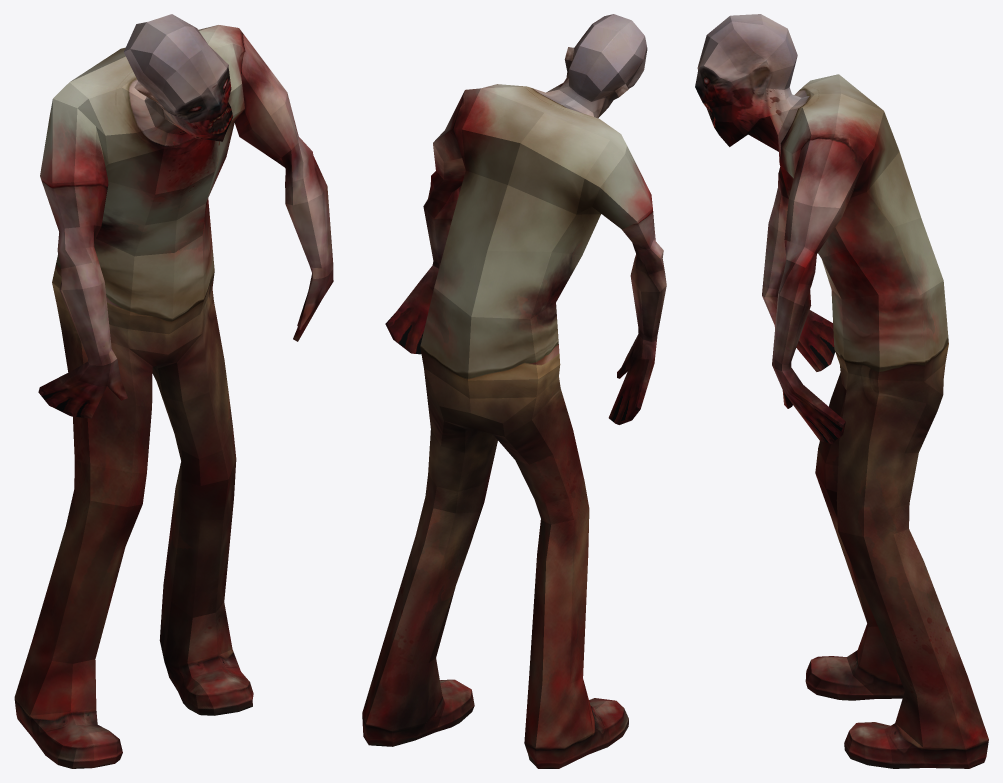
The model's file is Zombie.fbx.
The picture shows the model from 3 angles, left to right: view 1: azimuth 30°, elevation 25°; view 2: azimuth 150°, elevation 25°; view 3: azimuth 270°, elevation 25°; orthographic projection. The views are drawn at different scales.
Parts seen in each view (by area): view 1: Zombie_model; view 2: Zombie_model; view 3: Zombie_model.
Boxes of the visible parts, box(x1,y1,x2,y2) form: Zombie_model: box(14, 14, 333, 768); Zombie_model: box(362, 14, 666, 768); Zombie_model: box(695, 14, 988, 768).
Bounding box in the file's own units: 7.15 × 18.09 × 7.04.
1 material, 1 textured.
